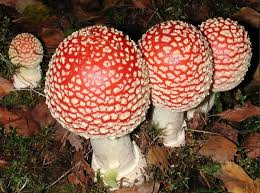Amanita muscaria: (39, 22, 156, 181), (135, 11, 213, 149), (197, 7, 251, 119), (6, 24, 45, 89)
